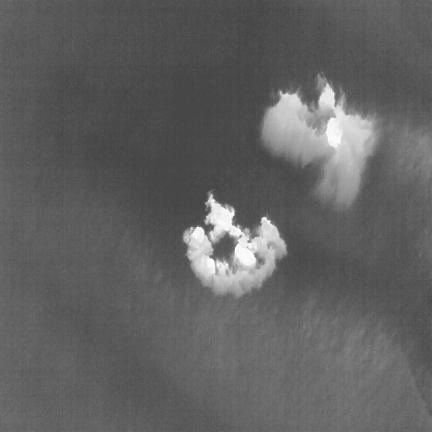flukeprints: (261, 75, 373, 204), (183, 192, 286, 296)
